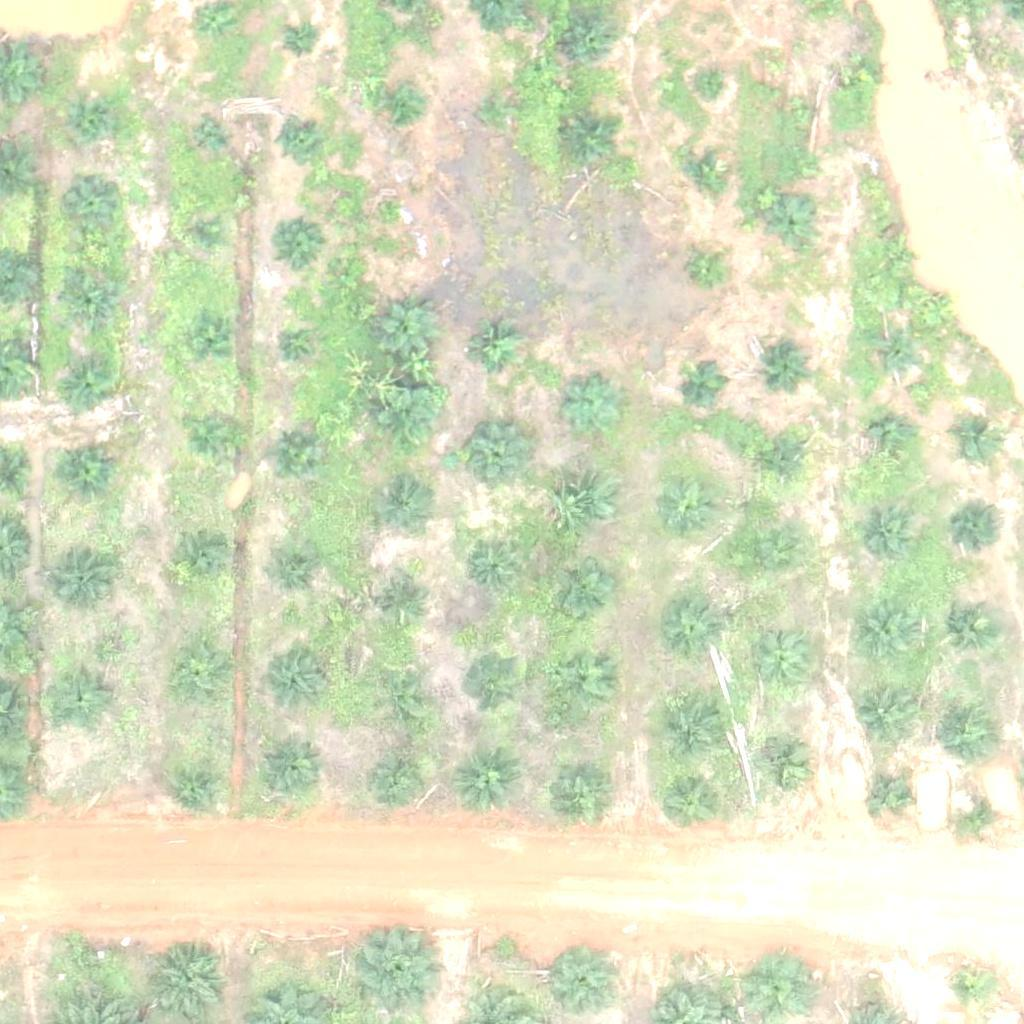Kelapa_Sawit: (357, 926, 445, 1014), (151, 947, 226, 1022), (52, 547, 115, 610), (739, 530, 802, 593), (854, 506, 917, 569), (462, 323, 525, 386), (466, 423, 529, 486), (453, 750, 516, 813), (852, 603, 915, 666), (262, 733, 325, 796), (173, 640, 236, 703), (163, 751, 226, 814), (549, 648, 612, 711), (547, 755, 610, 818), (463, 655, 526, 718), (659, 772, 722, 835), (748, 953, 811, 1016), (939, 699, 1002, 762), (853, 684, 916, 747), (376, 299, 439, 362), (169, 530, 232, 592), (550, 562, 612, 625), (661, 477, 723, 540), (560, 375, 622, 438), (663, 694, 725, 757), (375, 668, 437, 731), (660, 598, 722, 661), (749, 636, 811, 699), (754, 734, 816, 797), (939, 594, 1001, 657), (378, 388, 440, 451), (556, 475, 618, 538), (370, 750, 432, 812), (266, 655, 328, 717), (568, 13, 618, 64), (567, 116, 617, 167), (866, 769, 916, 820), (952, 790, 1002, 841), (273, 218, 323, 269), (678, 148, 728, 199), (61, 446, 111, 496), (65, 278, 115, 328), (67, 360, 117, 410), (64, 175, 114, 225), (54, 675, 104, 725), (273, 556, 323, 606), (375, 488, 425, 538), (383, 581, 433, 631), (466, 544, 516, 594), (269, 428, 319, 478), (955, 505, 1005, 555), (762, 336, 812, 386), (680, 361, 730, 411), (187, 408, 237, 458), (869, 331, 919, 381), (768, 200, 818, 250), (865, 416, 915, 466), (951, 415, 1001, 465), (945, 964, 995, 1014), (759, 440, 809, 490), (273, 320, 323, 370), (186, 316, 236, 366), (67, 98, 117, 148), (877, 238, 915, 276), (689, 249, 727, 287), (184, 215, 222, 253), (781, 90, 819, 128), (283, 22, 321, 60), (383, 86, 421, 124), (845, 52, 882, 90), (479, 92, 516, 130), (280, 118, 317, 156), (188, 116, 225, 154), (691, 71, 728, 108)
